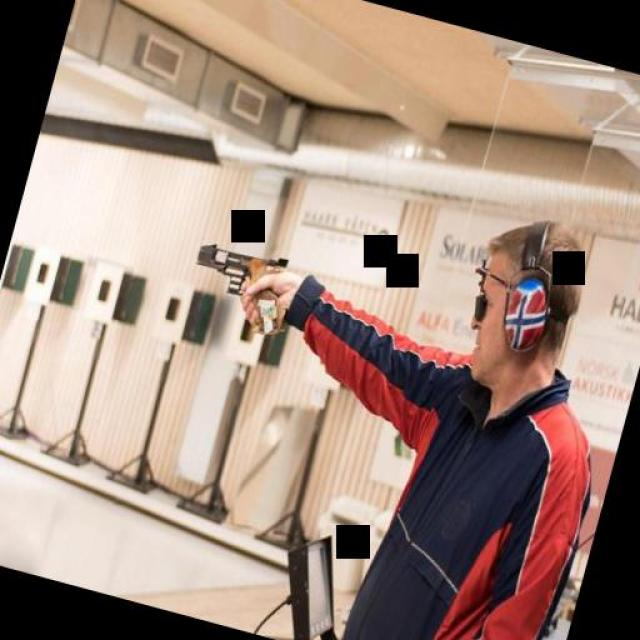gun: (179, 228, 305, 338)
